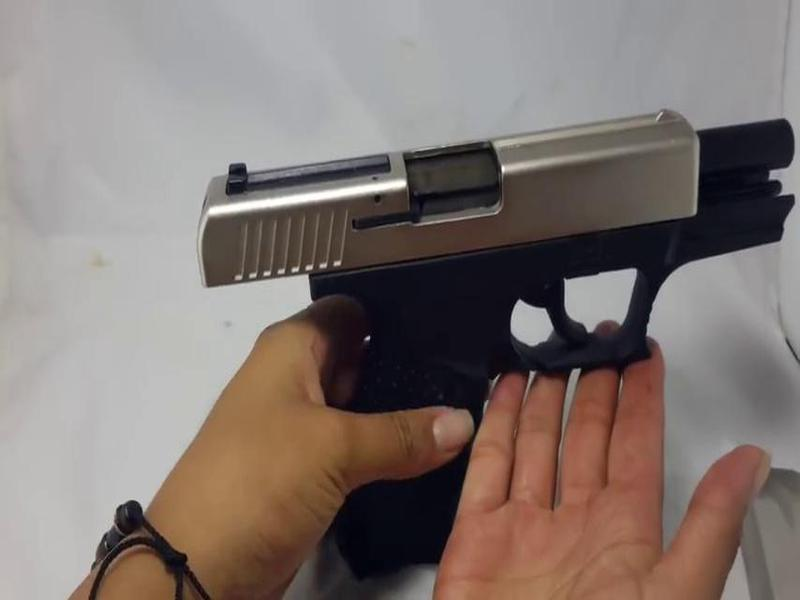Pistola: (187, 98, 800, 575)
